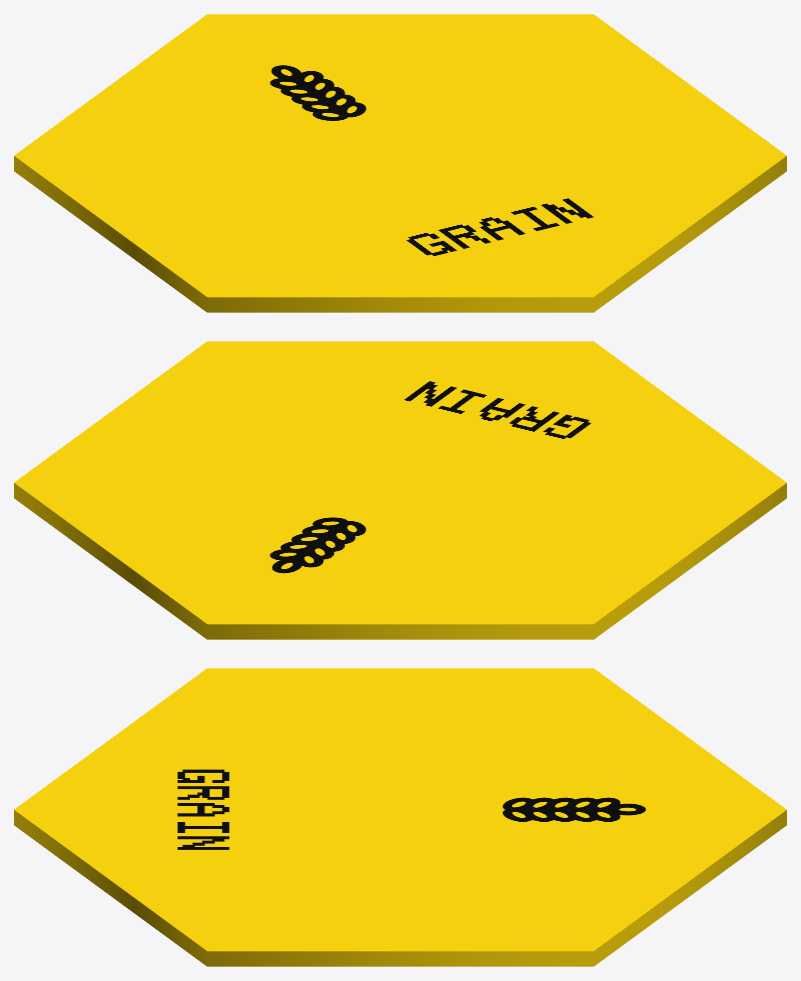
The model's file is tile-grain.gltf.
3 views of the same model, one above another, from view 1: azimuth 30°, elevation 25°; view 2: azimuth 150°, elevation 25°; view 3: azimuth 270°, elevation 25° (orthographic).
Bounding box in the file's own units: 0.0779 × 0.002 × 0.09.
2 materials, 1 textured.
